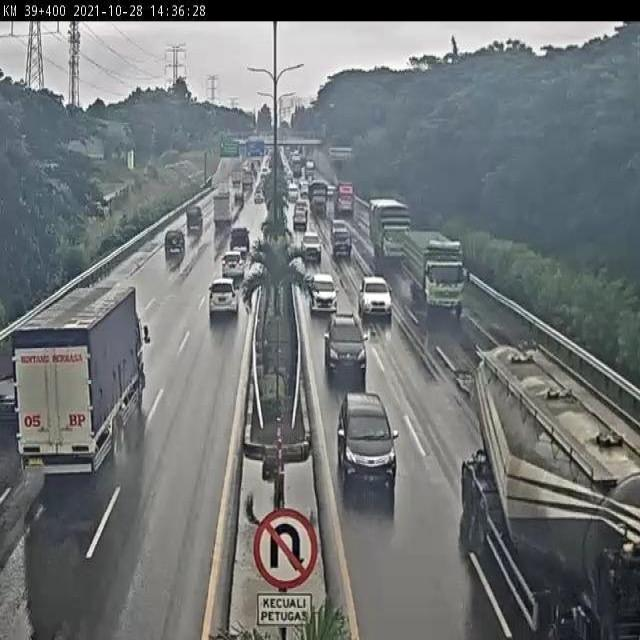big truck: (460, 341, 640, 640), (16, 285, 143, 472), (403, 226, 467, 318), (367, 197, 413, 268), (212, 191, 236, 229)
car: (336, 394, 398, 486), (324, 312, 368, 379), (359, 272, 394, 320), (309, 274, 340, 318), (208, 276, 239, 319), (164, 227, 189, 257), (221, 251, 245, 281), (300, 230, 322, 262), (228, 222, 252, 250), (331, 228, 351, 256), (185, 203, 204, 232), (291, 207, 309, 228), (331, 218, 349, 234)
